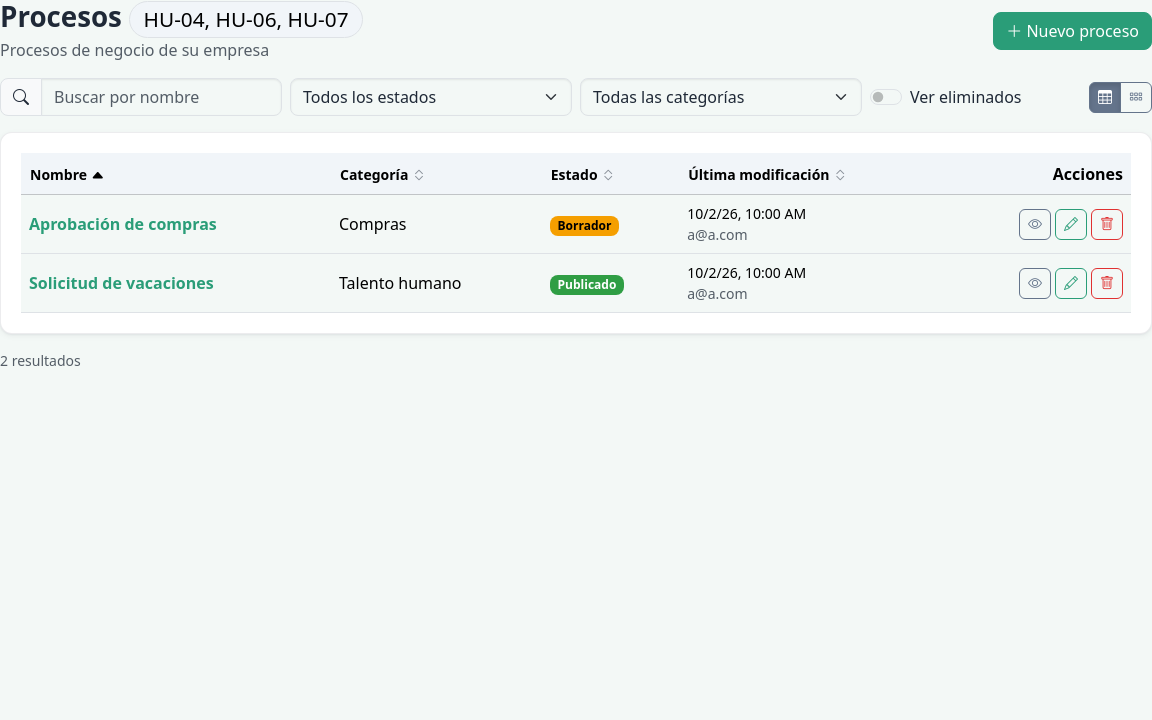
Scenario: ProcesosComponent (HU-06, HU-07) › un 403 al eliminar se muestra sin perder la lista
Click the button named "Eliminar Aprobación de compras" at (1107,224), box [1091,209,1123,240]
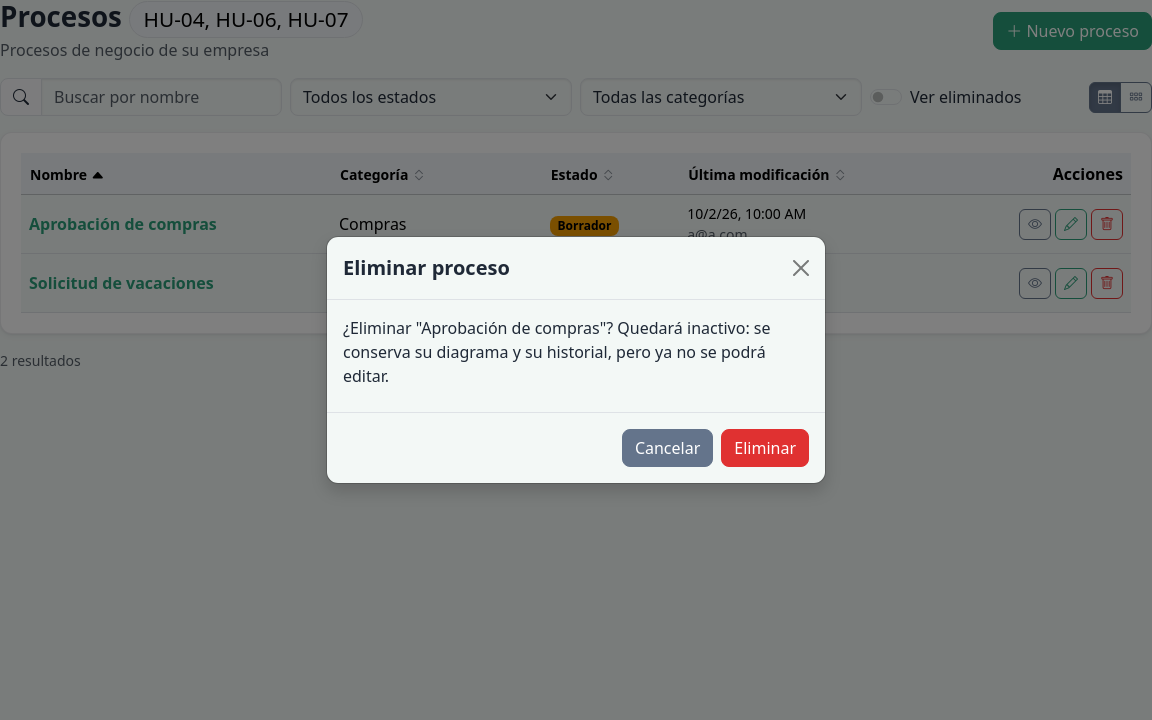
Click the button with id "confirmarEliminarBtn" at (765,448), box [721,429,809,467]
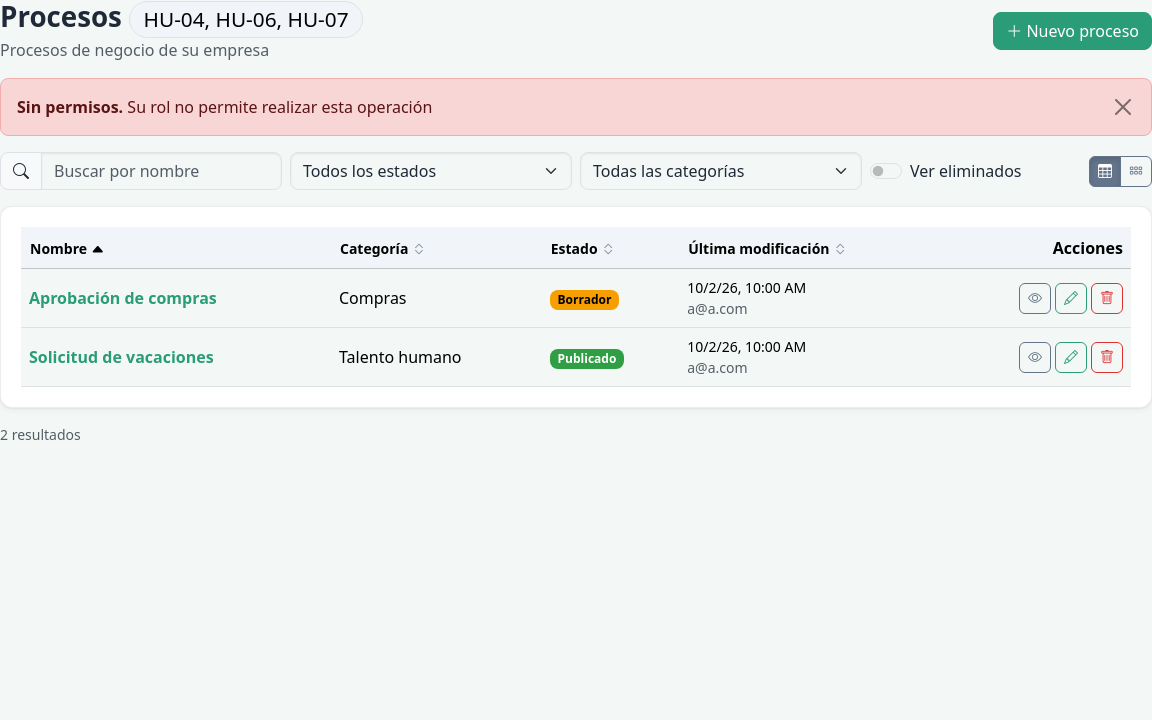
Result: the text "Su rol no permite realizar esta operación" is shown at [123,96,432,118]
